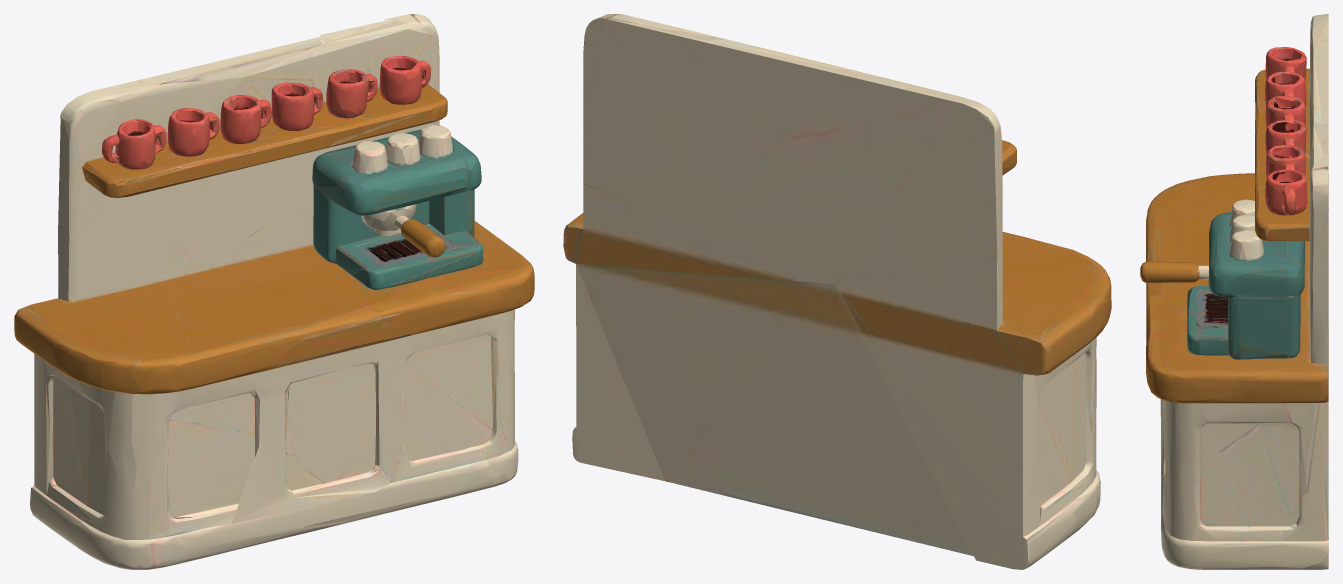
File: beverageBar.glb
The picture shows the model from 3 angles, left to right: view 1: azimuth 30°, elevation 25°; view 2: azimuth 150°, elevation 25°; view 3: azimuth 270°, elevation 25°; orthographic projection. The views are drawn at different scales.
Parts seen in each view (by area): view 1: Mesh_0; view 2: Mesh_0; view 3: Mesh_0.
Boxes of the visible parts, x1=… form: Mesh_0: x1=14, y1=14, x2=534, y2=569; Mesh_0: x1=563, y1=14, x2=1111, y2=569; Mesh_0: x1=1140, y1=14, x2=1328, y2=569.
Bounding box in the file's own units: 1.8 × 1.61 × 0.6999.
1 material, 1 textured.
